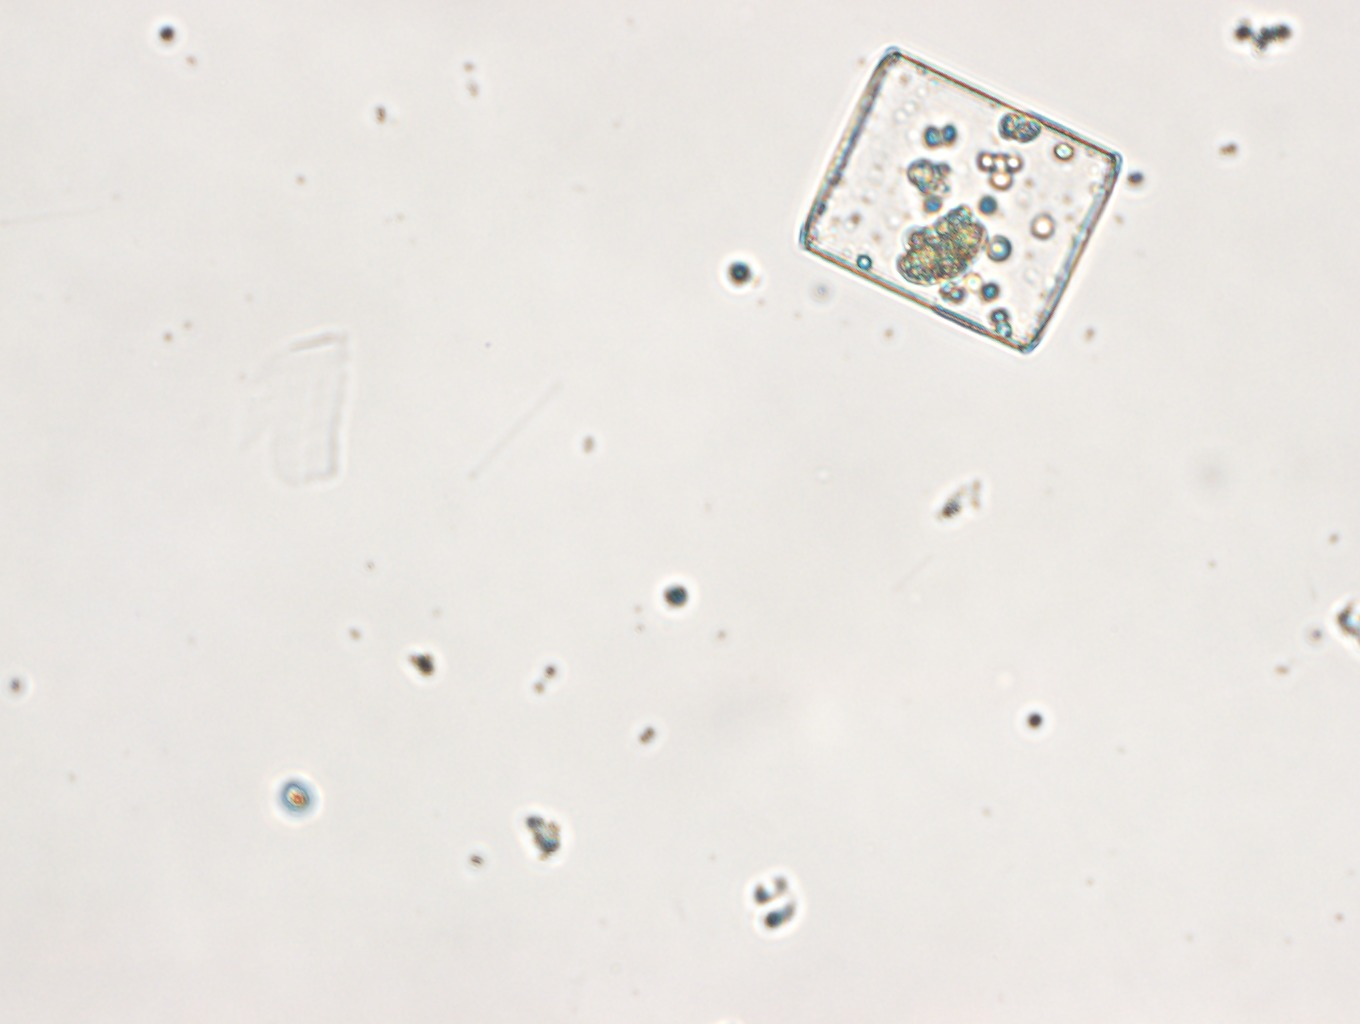guinardia flaccida: (797, 45, 1123, 356)
